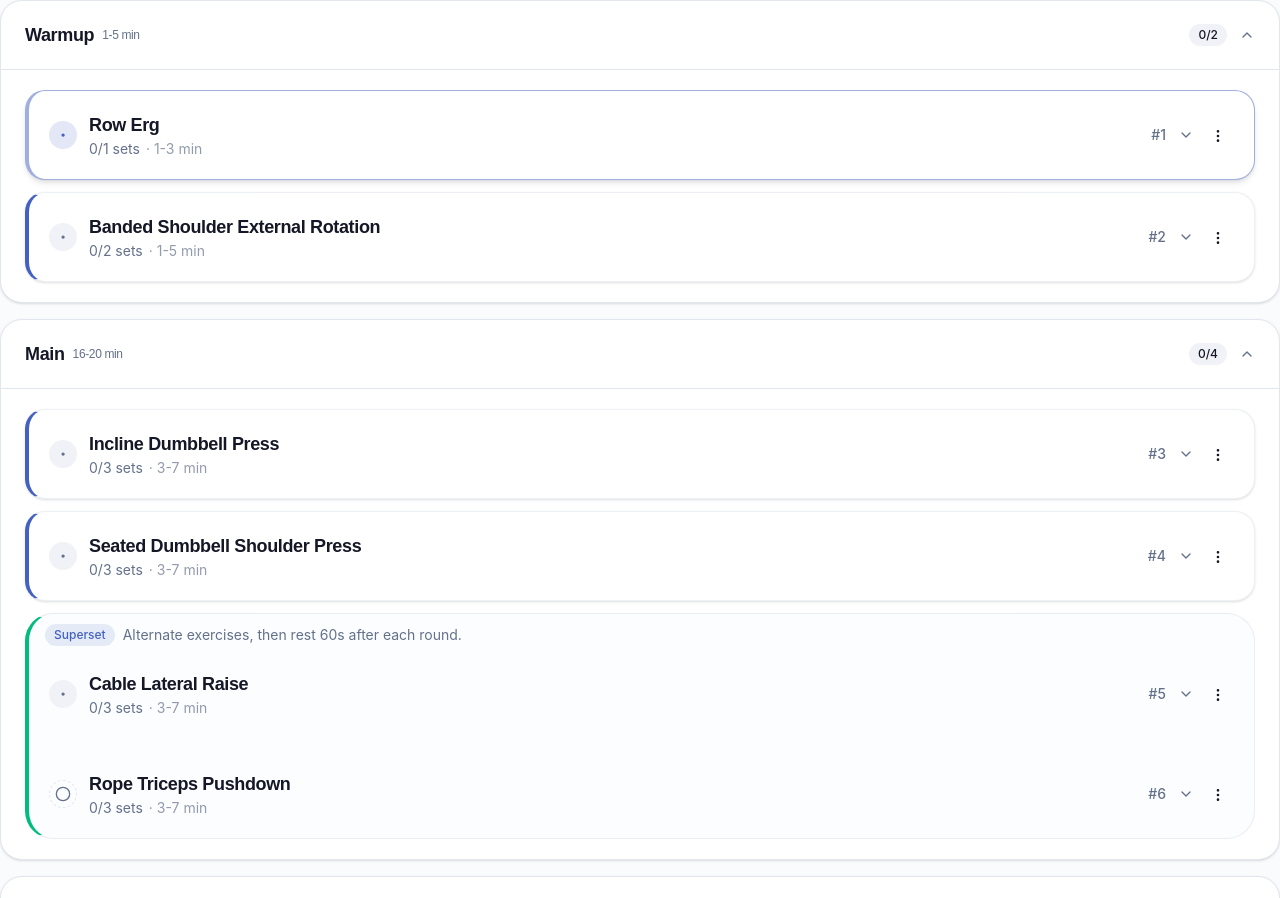
Test: SessionExerciseList › renders agent notes inline beneath programming notes on active workout cards
The image size is (1280, 898).
Step 1. Click the button "Row Erg 0/1 sets· 1-3 min #1" → (124, 125), box top-left (49, 115), bottom-right (1234, 157)
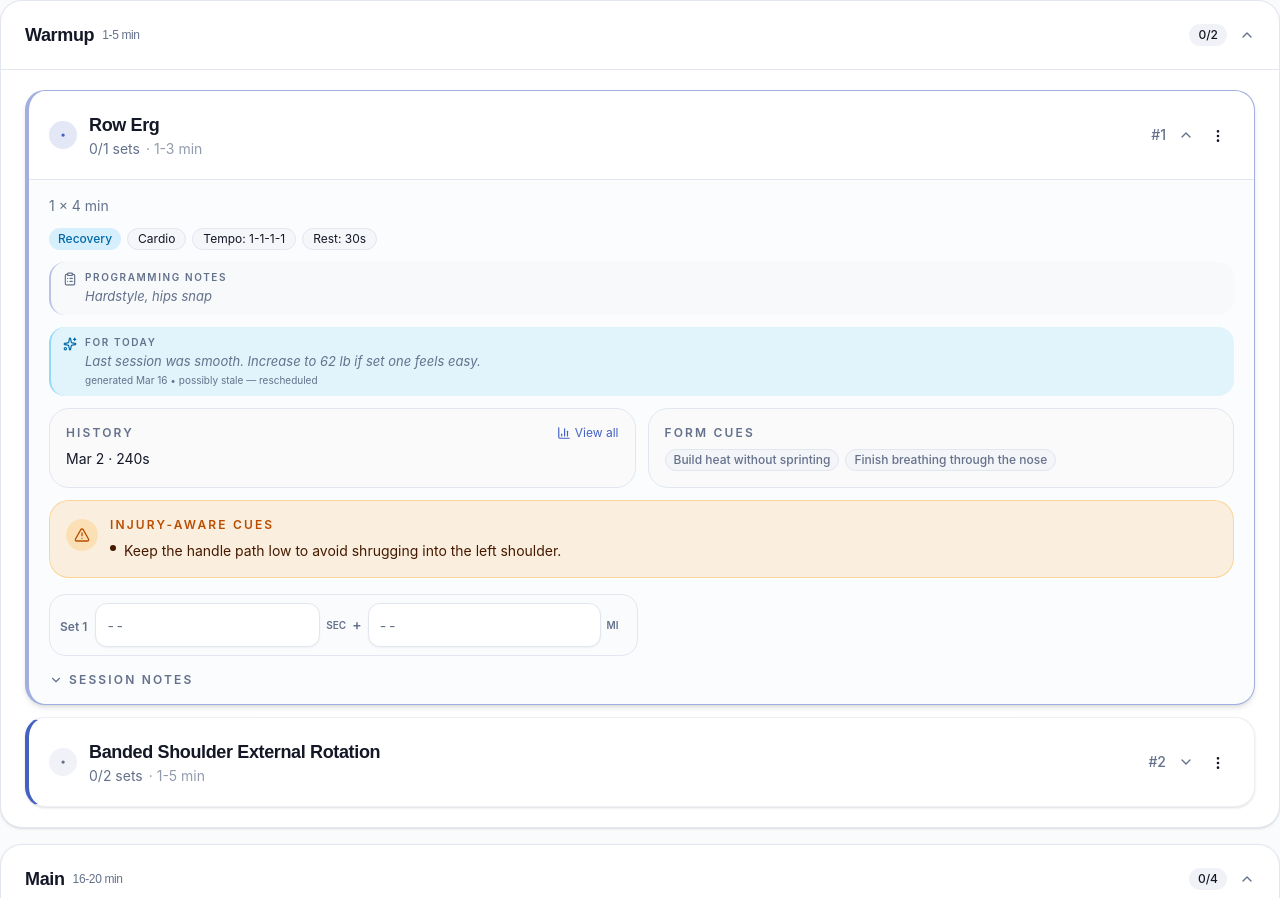
Check: the element with test id "exercise-programming-notes-warmup::row-erg" shows "Hardstyle, hips snap", box top-left (85, 288), bottom-right (212, 304)
Check: the element with test id "exercise-agent-notes-warmup::row-erg" shows "Last session was smooth. Increase to 62 lb if set one feels easy.", box top-left (85, 352), bottom-right (481, 368)
Check: the text "generated Mar 16 • possibly stale — rescheduled" is shown, box top-left (85, 374), bottom-right (318, 386)
